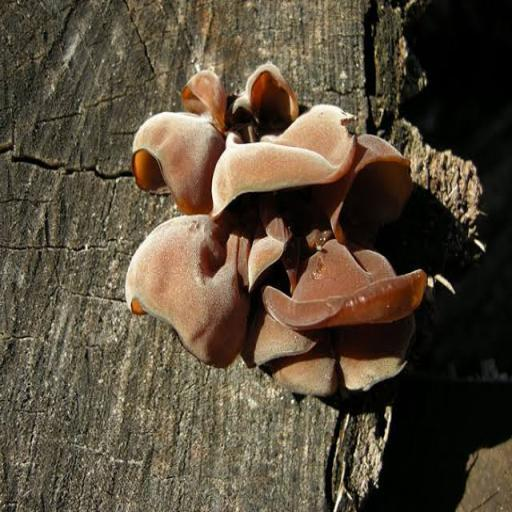mushroom: (121, 61, 432, 412)
